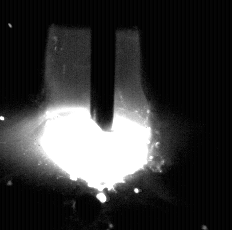arame: (90, 0, 115, 135)
poca: (37, 0, 151, 230)
